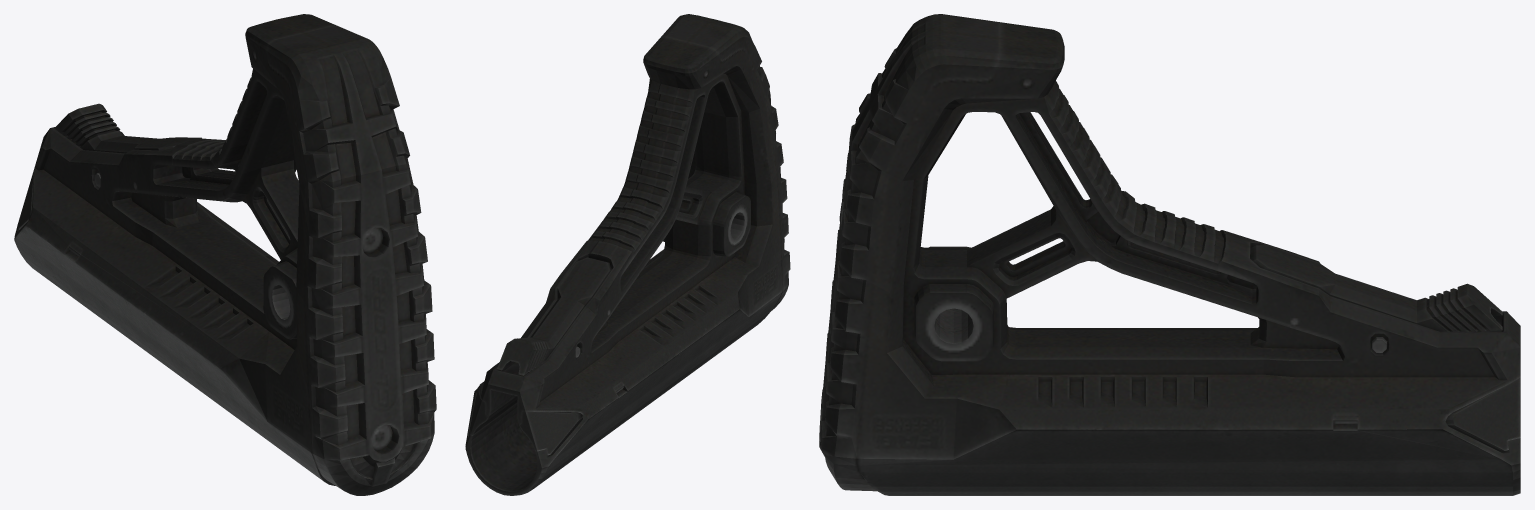
3 renders of one model, left to right at view 1: azimuth 30°, elevation 25°; view 2: azimuth 150°, elevation 25°; view 3: azimuth 270°, elevation 25°, orthographic. The views are drawn at different scales.
Visible parts, largest first — view 1: TW_602e620f9b513876d4338d9a_PZ_Import; view 2: TW_602e620f9b513876d4338d9a_PZ_Import; view 3: TW_602e620f9b513876d4338d9a_PZ_Import.
Part boxes in pixels (bbox=[...]): TW_602e620f9b513876d4338d9a_PZ_Import: bbox=[14, 14, 436, 495]; TW_602e620f9b513876d4338d9a_PZ_Import: bbox=[465, 14, 790, 495]; TW_602e620f9b513876d4338d9a_PZ_Import: bbox=[819, 14, 1520, 495].
Bounding box in the file's own units: 0.0298 × 0.1106 × 0.0799.
1 material, 1 textured.
